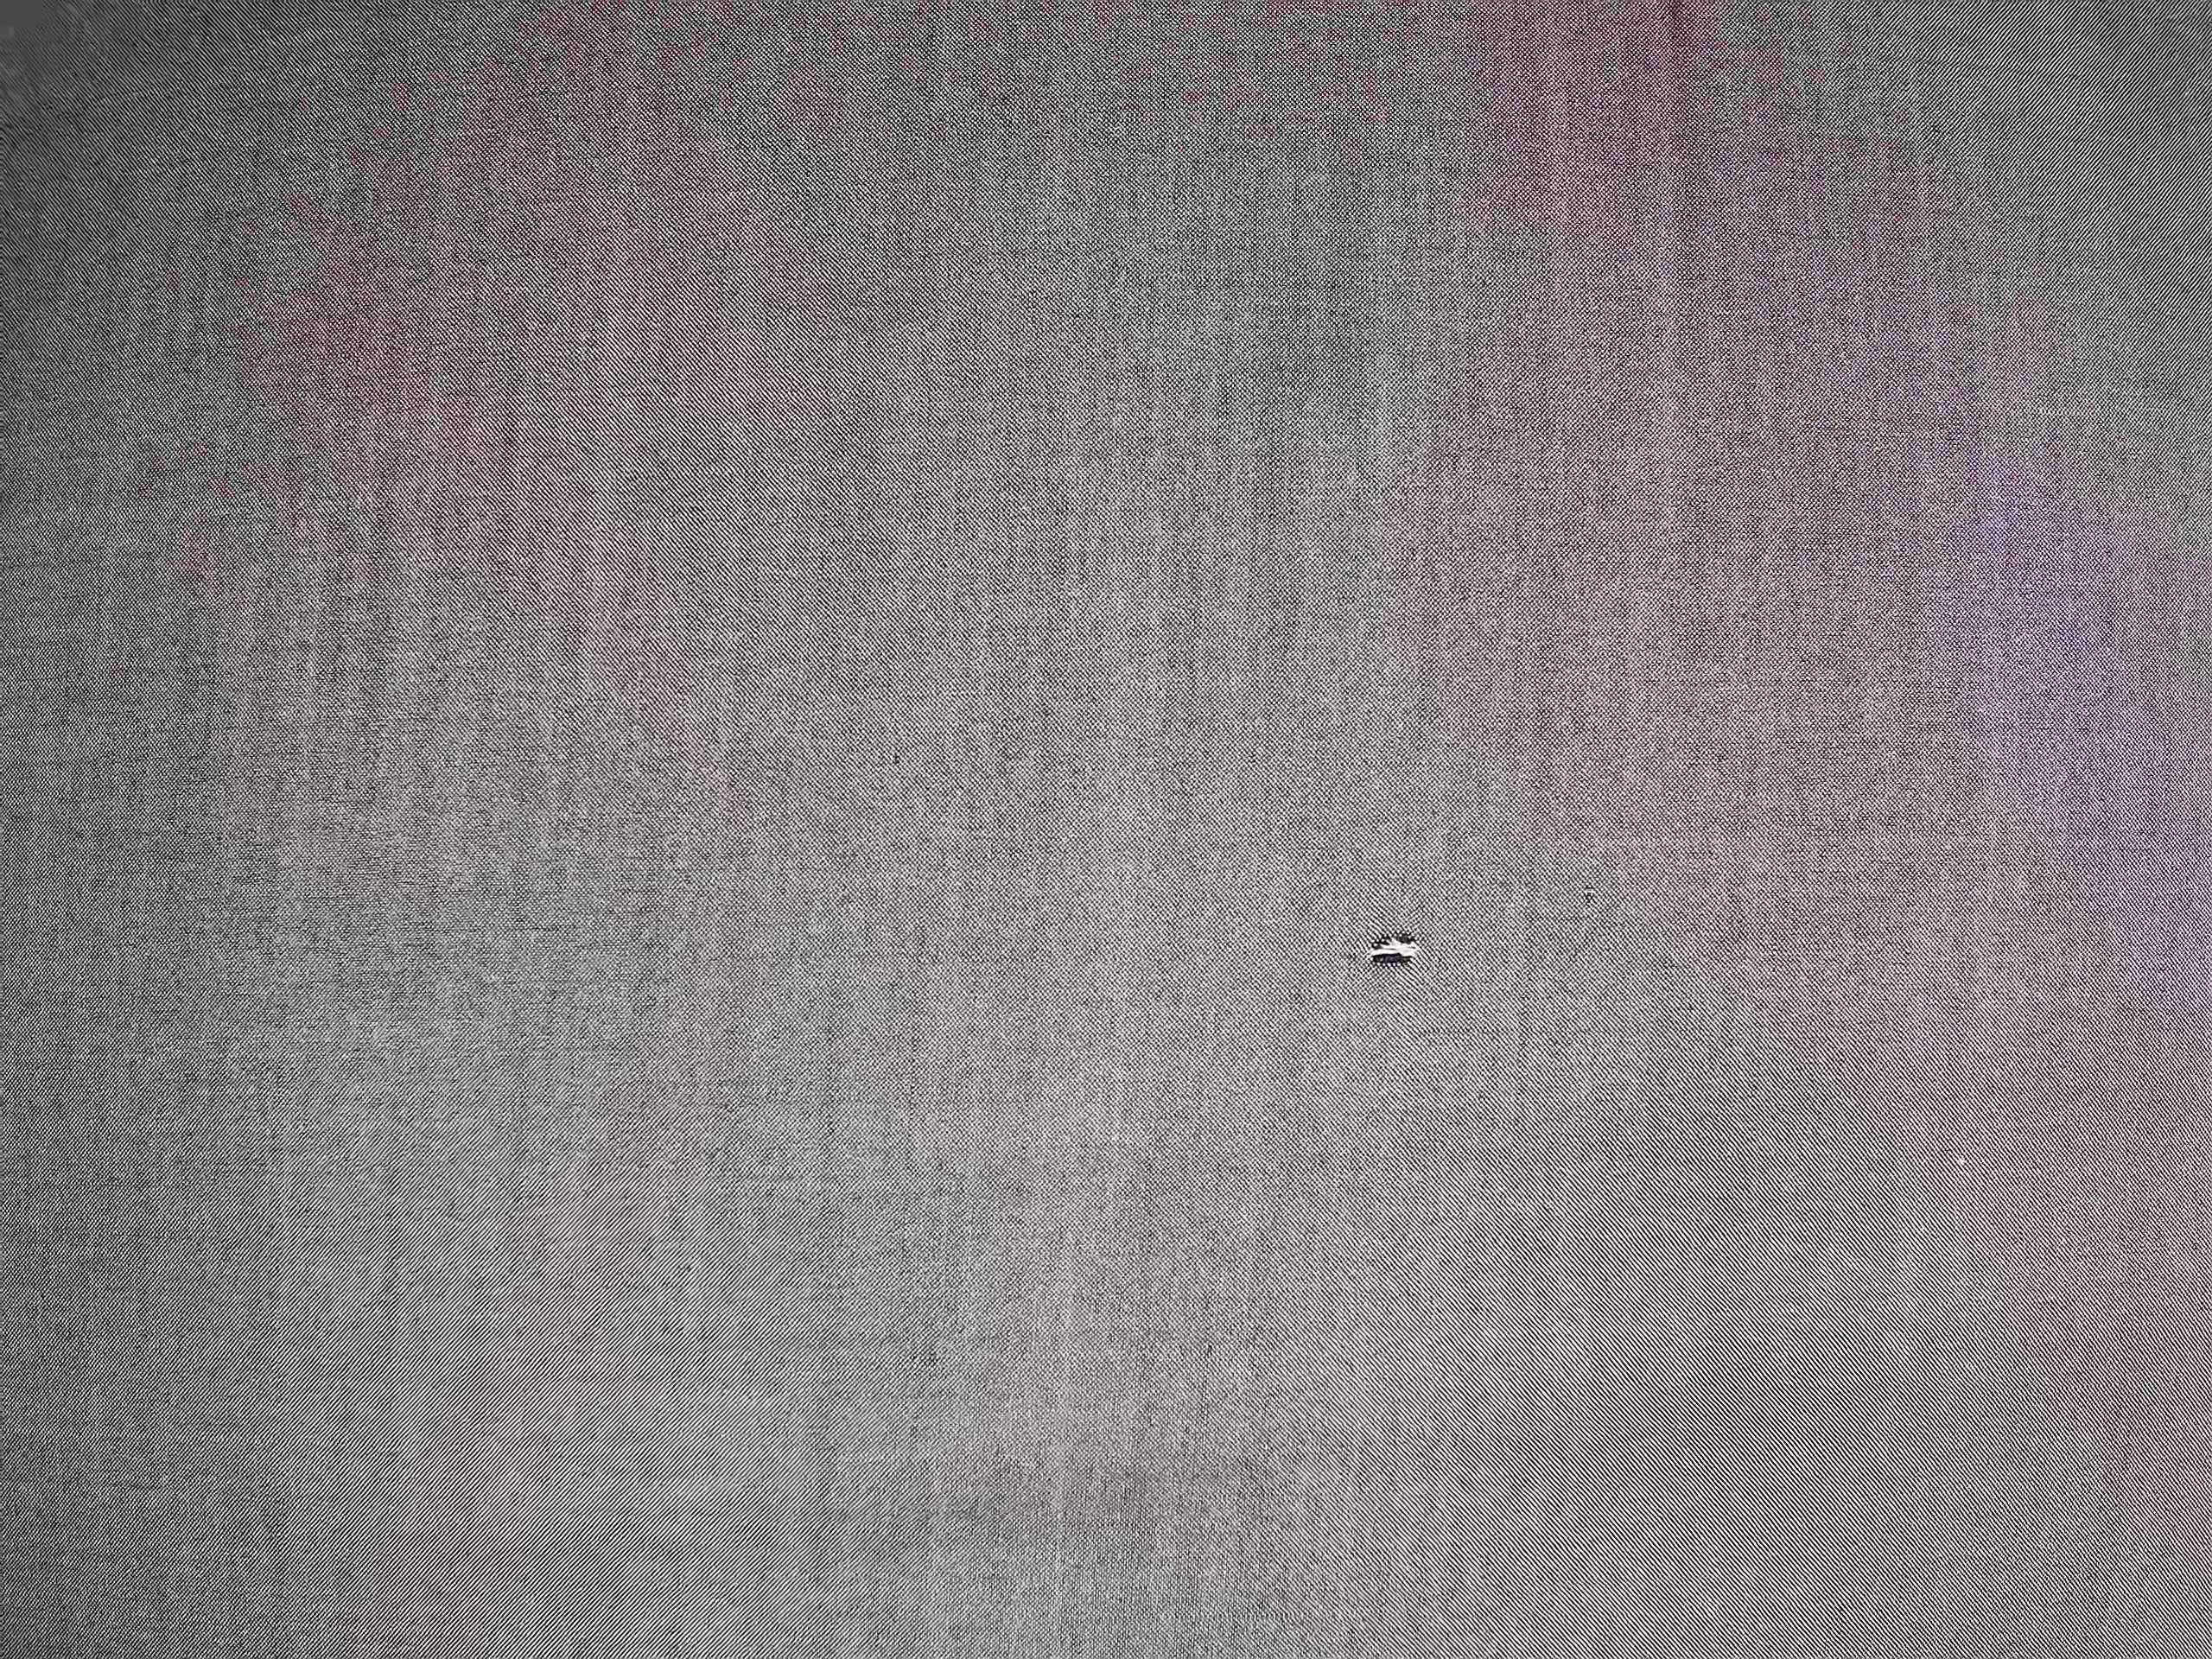rubbing-hole: (1350, 908, 1440, 997)
